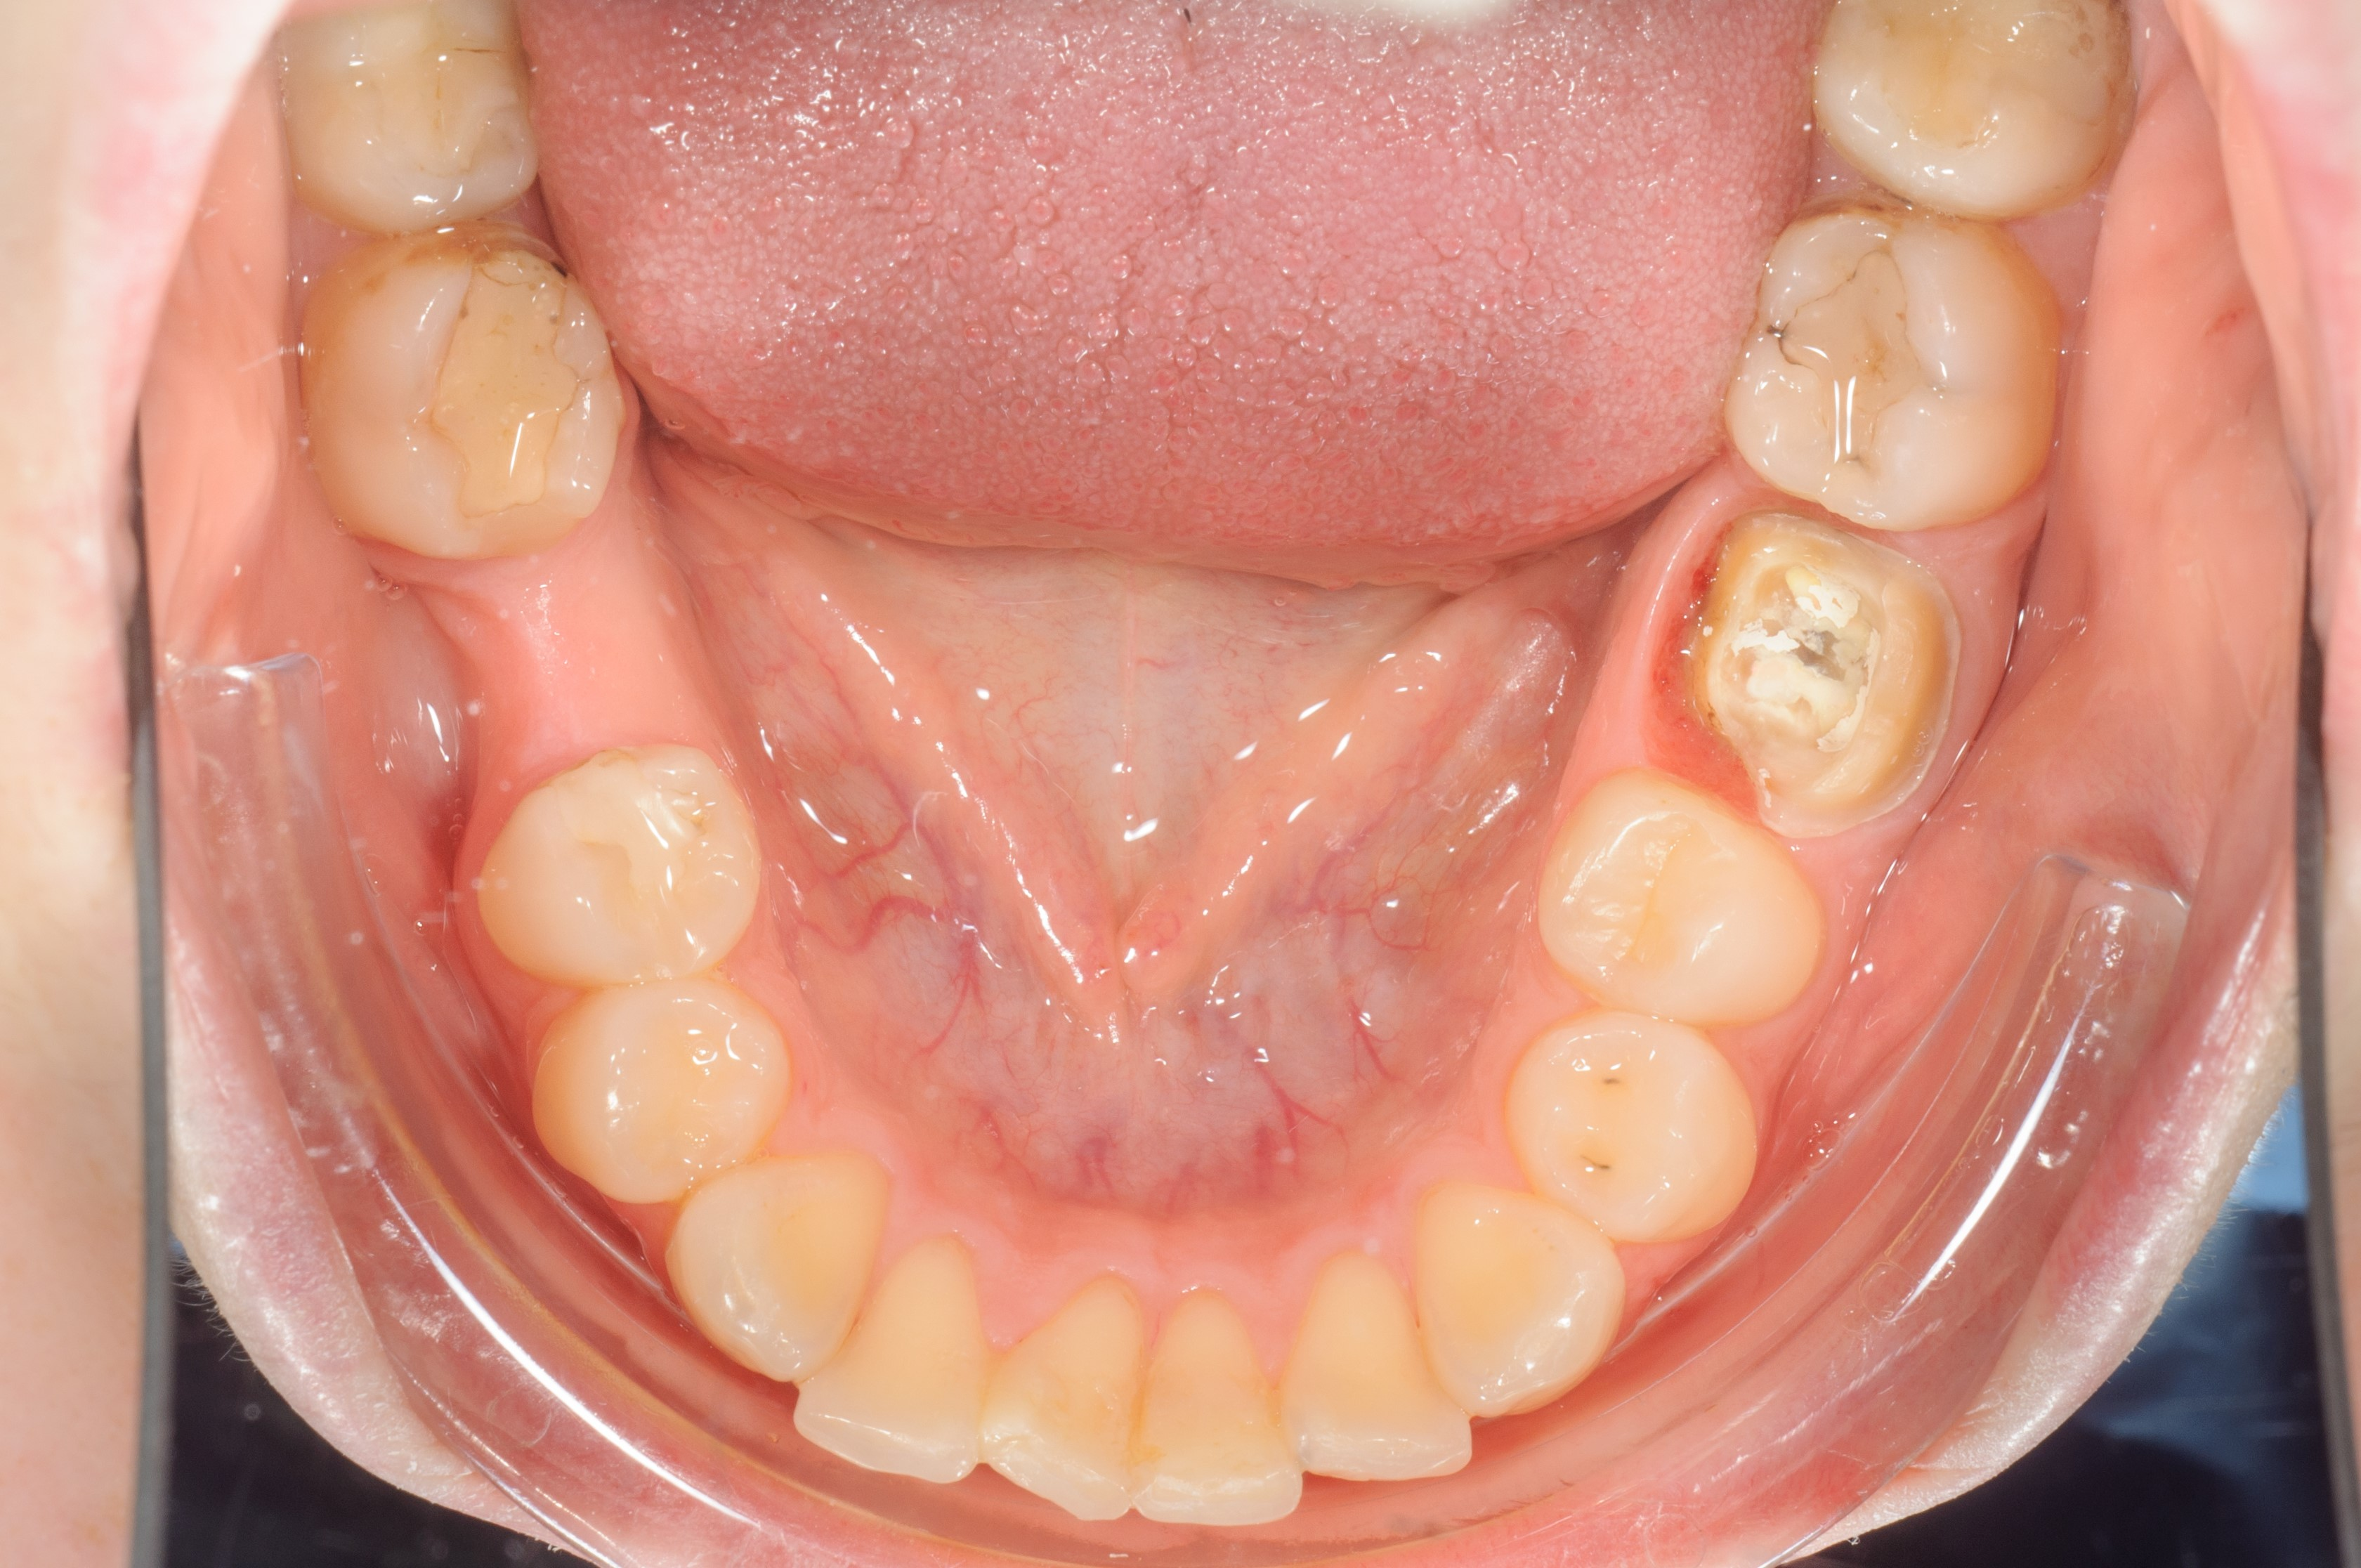LL1BC_decay: (1523, 1031, 1752, 1223)
LL1M_decay: (1663, 509, 1951, 826)
LL2BC_healthy: (1540, 807, 1817, 1031)
LL2M_decay: (1738, 227, 2055, 523)
LL3M_decay: (1824, 3, 2119, 215)
LLCI_healthy: (1153, 1302, 1302, 1522)
LLC_healthy: (1423, 1214, 1622, 1414)
LLLI_healthy: (1300, 1277, 1472, 1475)
LR1BC_healthy: (550, 980, 777, 1200)
LR1M_decay: (462, 569, 723, 752)
LR2BC_healthy: (506, 754, 754, 983)
LR2M_decay: (354, 254, 620, 541)
LR3M_healthy: (299, 9, 525, 215)
LRCI_healthy: (991, 1293, 1146, 1514)
LRC_healthy: (700, 1169, 879, 1370)
LRLI_healthy: (817, 1253, 984, 1491)
